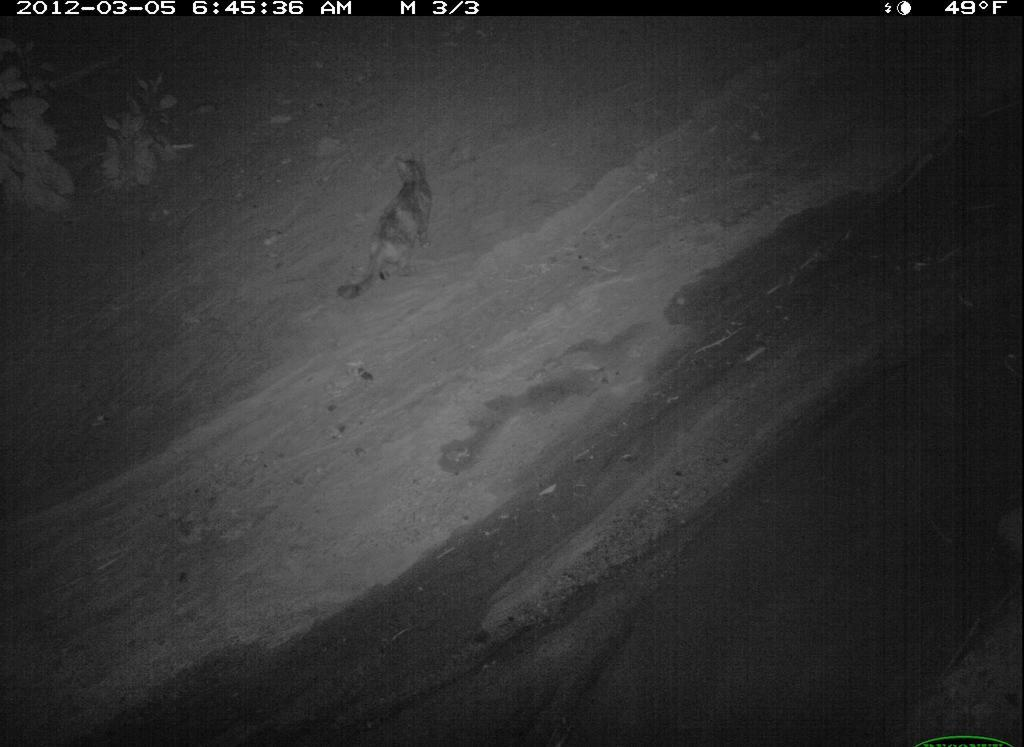cat: (660, 288, 877, 617)
